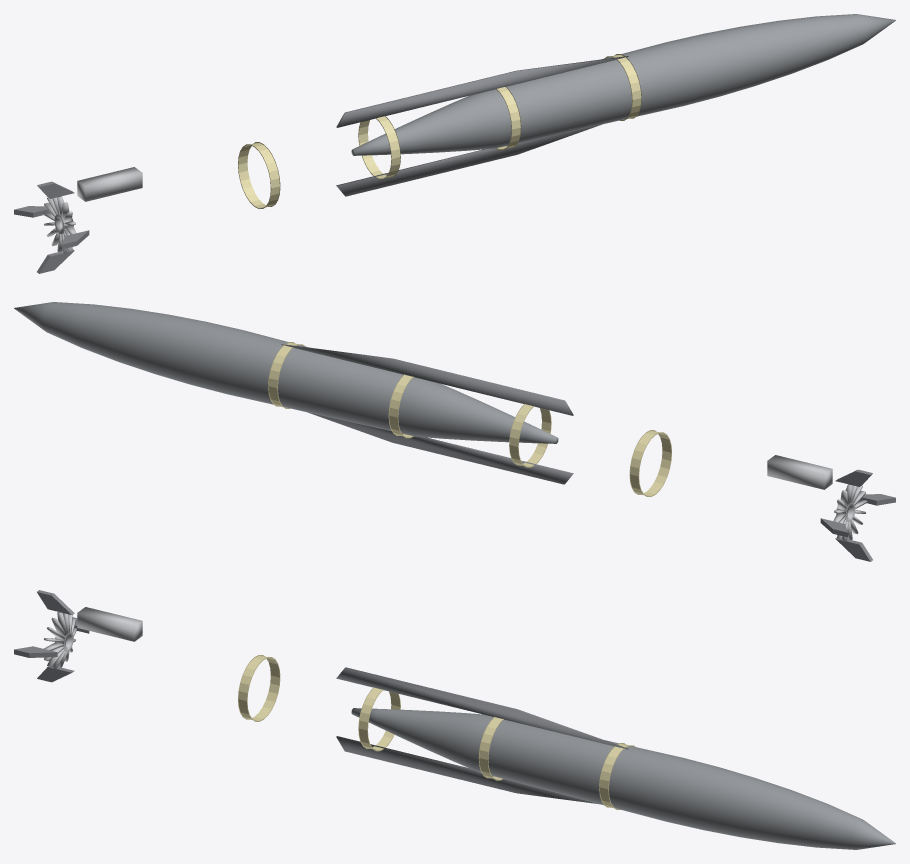
File: RU_TORP_TEST96_LOD1.fbx
The picture shows the model from 3 angles, top to bottom: view 1: azimuth 30°, elevation 25°; view 2: azimuth 150°, elevation 25°; view 3: azimuth 330°, elevation 25°; orthographic projection.
Parts seen in each view (by area): view 1: WPN_RU_TORP_TEST96_LOD1_Body, WPN_RU_TORP_TEST96_LOD1_Detail, WPN_RU_TORP_TEST96_LOD1_Marking, WPN_RU_TORP_TEST96_LOD1_Fins, WPN_RU_TORP_TEST96_LOD1_Propulsor; view 2: WPN_RU_TORP_TEST96_LOD1_Body, WPN_RU_TORP_TEST96_LOD1_Detail, WPN_RU_TORP_TEST96_LOD1_Marking, WPN_RU_TORP_TEST96_LOD1_Fins, WPN_RU_TORP_TEST96_LOD1_Propulsor; view 3: WPN_RU_TORP_TEST96_LOD1_Body, WPN_RU_TORP_TEST96_LOD1_Detail, WPN_RU_TORP_TEST96_LOD1_Marking, WPN_RU_TORP_TEST96_LOD1_Fins, WPN_RU_TORP_TEST96_LOD1_Propulsor.
Part boxes in pixels (x1,y1,x2,y2): WPN_RU_TORP_TEST96_LOD1_Body: [351, 14, 895, 155]; WPN_RU_TORP_TEST96_LOD1_Detail: [77, 56, 628, 201]; WPN_RU_TORP_TEST96_LOD1_Marking: [238, 54, 641, 208]; WPN_RU_TORP_TEST96_LOD1_Fins: [14, 181, 89, 273]; WPN_RU_TORP_TEST96_LOD1_Propulsor: [42, 196, 76, 253]; WPN_RU_TORP_TEST96_LOD1_Body: [14, 302, 558, 443]; WPN_RU_TORP_TEST96_LOD1_Detail: [281, 344, 832, 489]; WPN_RU_TORP_TEST96_LOD1_Marking: [268, 342, 671, 496]; WPN_RU_TORP_TEST96_LOD1_Fins: [820, 469, 895, 561]; WPN_RU_TORP_TEST96_LOD1_Propulsor: [833, 484, 867, 541]; WPN_RU_TORP_TEST96_LOD1_Body: [351, 708, 895, 849]; WPN_RU_TORP_TEST96_LOD1_Detail: [77, 607, 628, 803]; WPN_RU_TORP_TEST96_LOD1_Marking: [238, 655, 635, 809]; WPN_RU_TORP_TEST96_LOD1_Fins: [14, 590, 89, 682]; WPN_RU_TORP_TEST96_LOD1_Propulsor: [43, 612, 76, 669].
Bounding box in the file's own units: 7.98 × 0.7715 × 0.7715.
